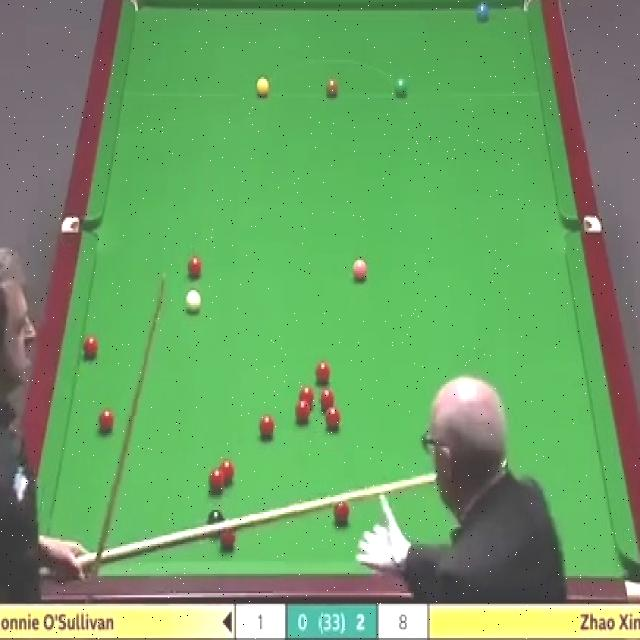black-ball: (206, 508, 225, 537)
blue-ball: (472, 0, 490, 23)
brown-ball: (325, 78, 340, 100)
green-ball: (392, 77, 407, 100)
pink-ball: (350, 254, 370, 283)
red-ball: (218, 524, 238, 552), (206, 468, 226, 495), (97, 406, 115, 435), (81, 333, 99, 360), (186, 254, 204, 279), (333, 498, 349, 524), (315, 359, 331, 385), (294, 400, 311, 424), (260, 416, 276, 441), (325, 405, 341, 430), (220, 458, 237, 481), (318, 388, 336, 409), (298, 385, 315, 407)
white-ball: (185, 286, 203, 314)
yellow-ball: (256, 76, 270, 99)
